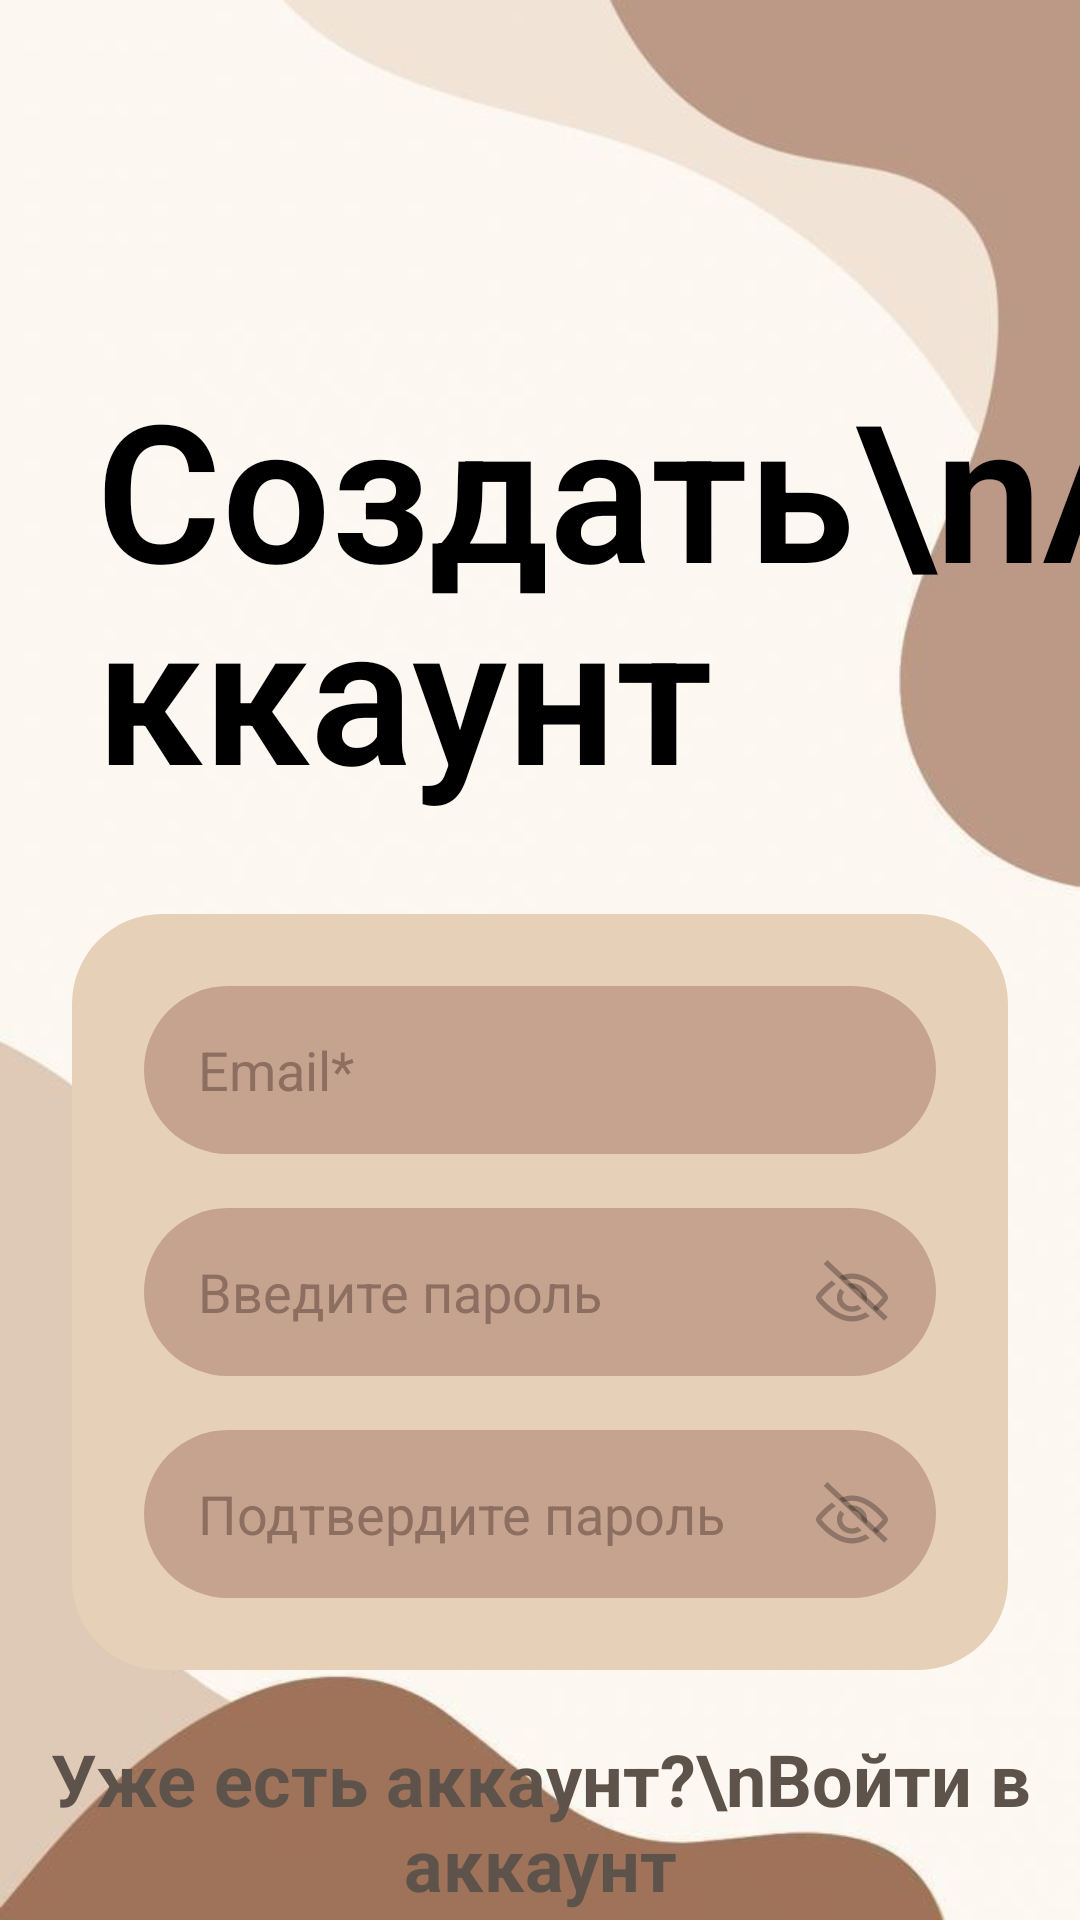

Locate icon controls on the screen. Image size 1080×1920, boxes as [x1=x1, y1=y1, x2=x2, y2=y2].
closeeye: [x1=816, y1=1260, x2=888, y2=1322], [x1=816, y1=1482, x2=888, y2=1544]
